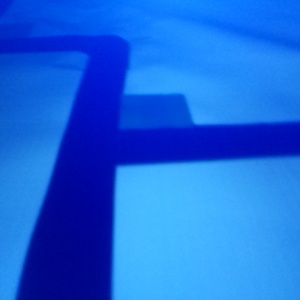top_right: (76, 94, 194, 165), (1, 23, 33, 53)
